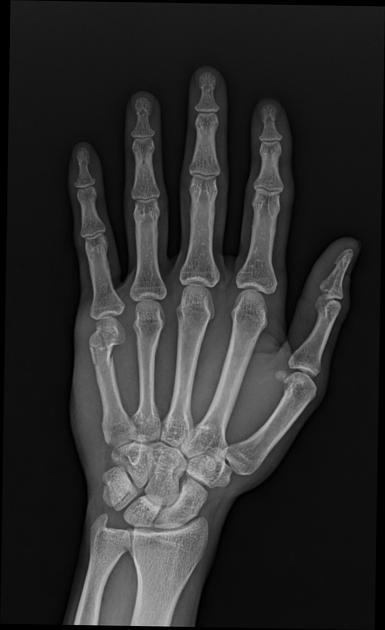fractured: (90, 334, 111, 364)
